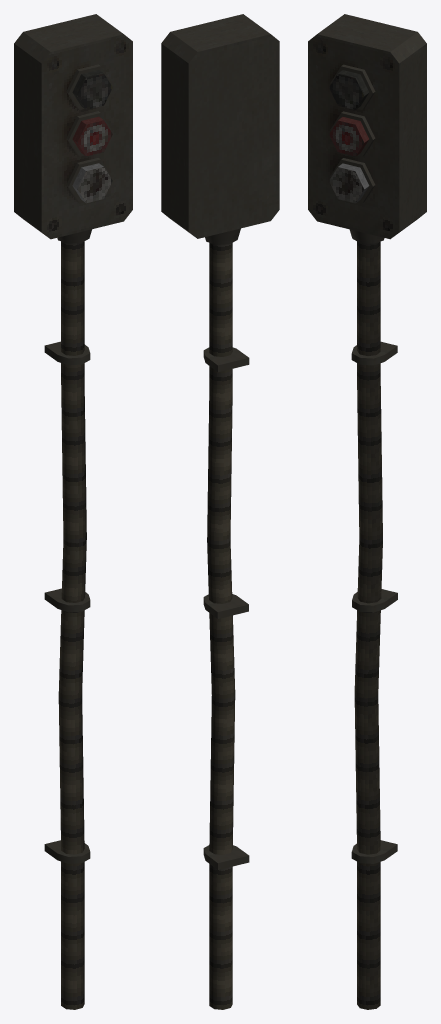
File: button_12.glb
The picture shows the model from 3 angles, left to right: view 1: azimuth 30°, elevation 25°; view 2: azimuth 210°, elevation 25°; view 3: azimuth 330°, elevation 25°; orthographic projection.
Parts seen in each view (by area): view 1: button_12; view 2: button_12; view 3: button_12.
Part boxes in pixels (x1,y1,x2,y2): button_12: (14,14,132,1009); button_12: (161,14,279,1009); button_12: (308,14,426,1009).
Size of the model in its own units: 0.11 by 1.12 by 0.0732.
2 materials, 2 textured.
